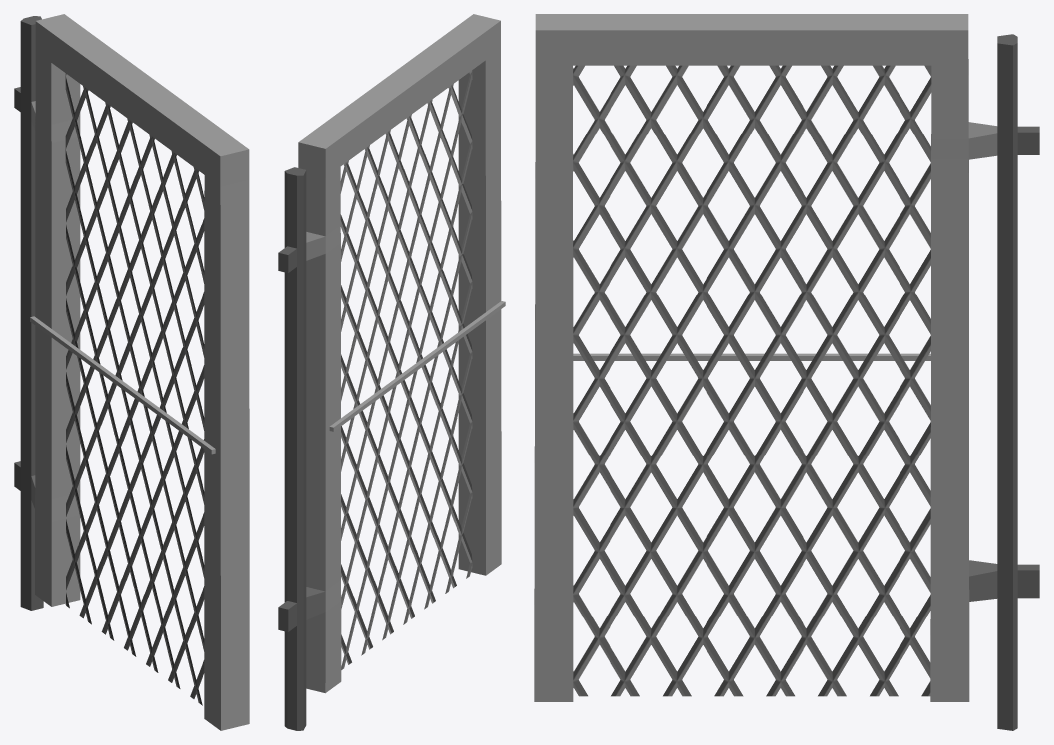
The model's file is Model_Plot4_L.fbx.
3 views of the same model, side by side, from view 1: azimuth 30°, elevation 25°; view 2: azimuth 150°, elevation 25°; view 3: azimuth 270°, elevation 25° (orthographic). The views are drawn at different scales.
Visible parts, largest first — view 1: Cube, Plane.003; view 2: Cube, Plane.003; view 3: Cube, Plane.003.
Boxes of the visible parts, <box> form: Cube: <box>14,14,249,730</box>; Plane.003: <box>65,73,204,705</box>; Cube: <box>278,14,505,730</box>; Plane.003: <box>340,70,472,669</box>; Cube: <box>534,14,1039,730</box>; Plane.003: <box>573,65,931,696</box>.
Size of the model in its own units: 142 by 219 by 13.58.
